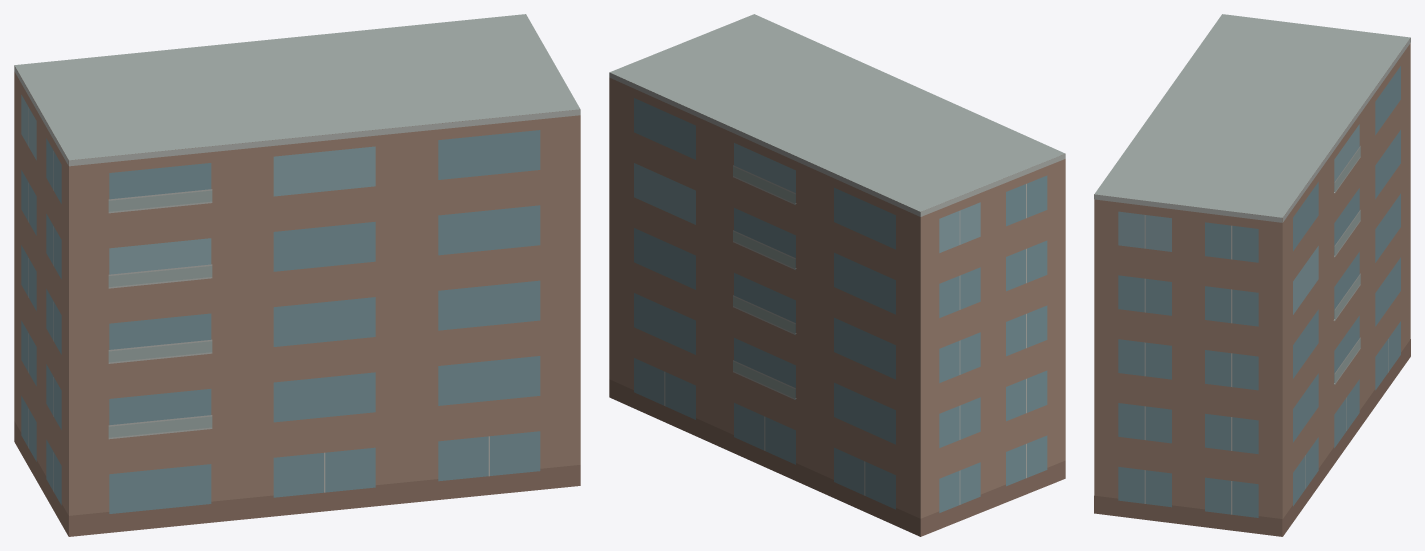
Rendered from survey-upis-32974816.glb.
3 renders of one model, left to right at view 1: azimuth 30°, elevation 25°; view 2: azimuth 150°, elevation 25°; view 3: azimuth 270°, elevation 25°, orthographic. The views are drawn at different scales.
Parts seen in each view (by area): view 1: survey-upis-32974816.tmp; view 2: survey-upis-32974816.tmp; view 3: survey-upis-32974816.tmp.
Boxes of the visible parts, x1,y1,x2,y2 form: survey-upis-32974816.tmp: [14, 14, 580, 536]; survey-upis-32974816.tmp: [609, 14, 1065, 536]; survey-upis-32974816.tmp: [1094, 14, 1410, 536].
Size of the model in its own units: 21.11 by 15.4 by 13.86.
